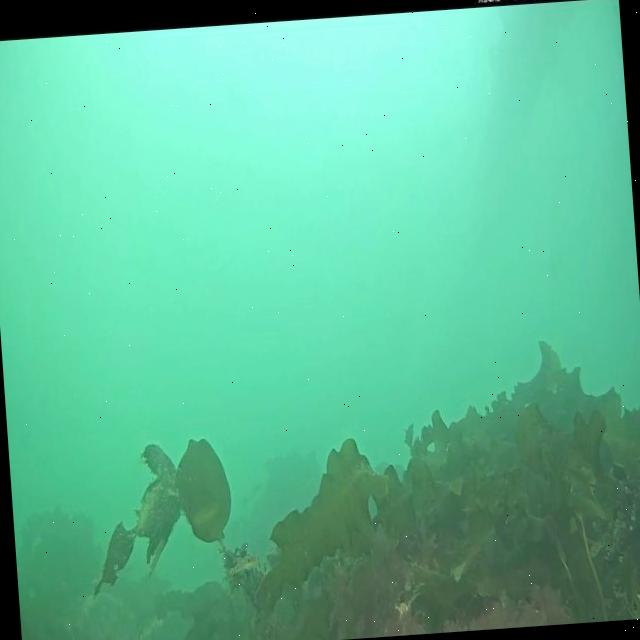fish: (224, 554, 258, 578)
